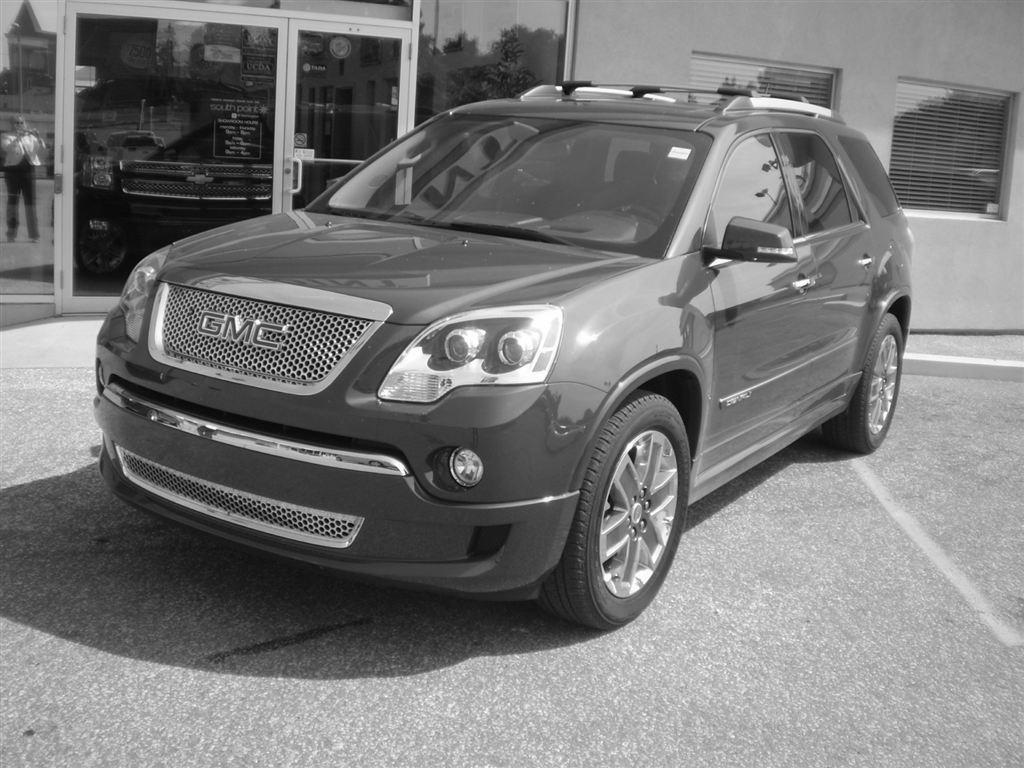car: (68, 87, 909, 631)
